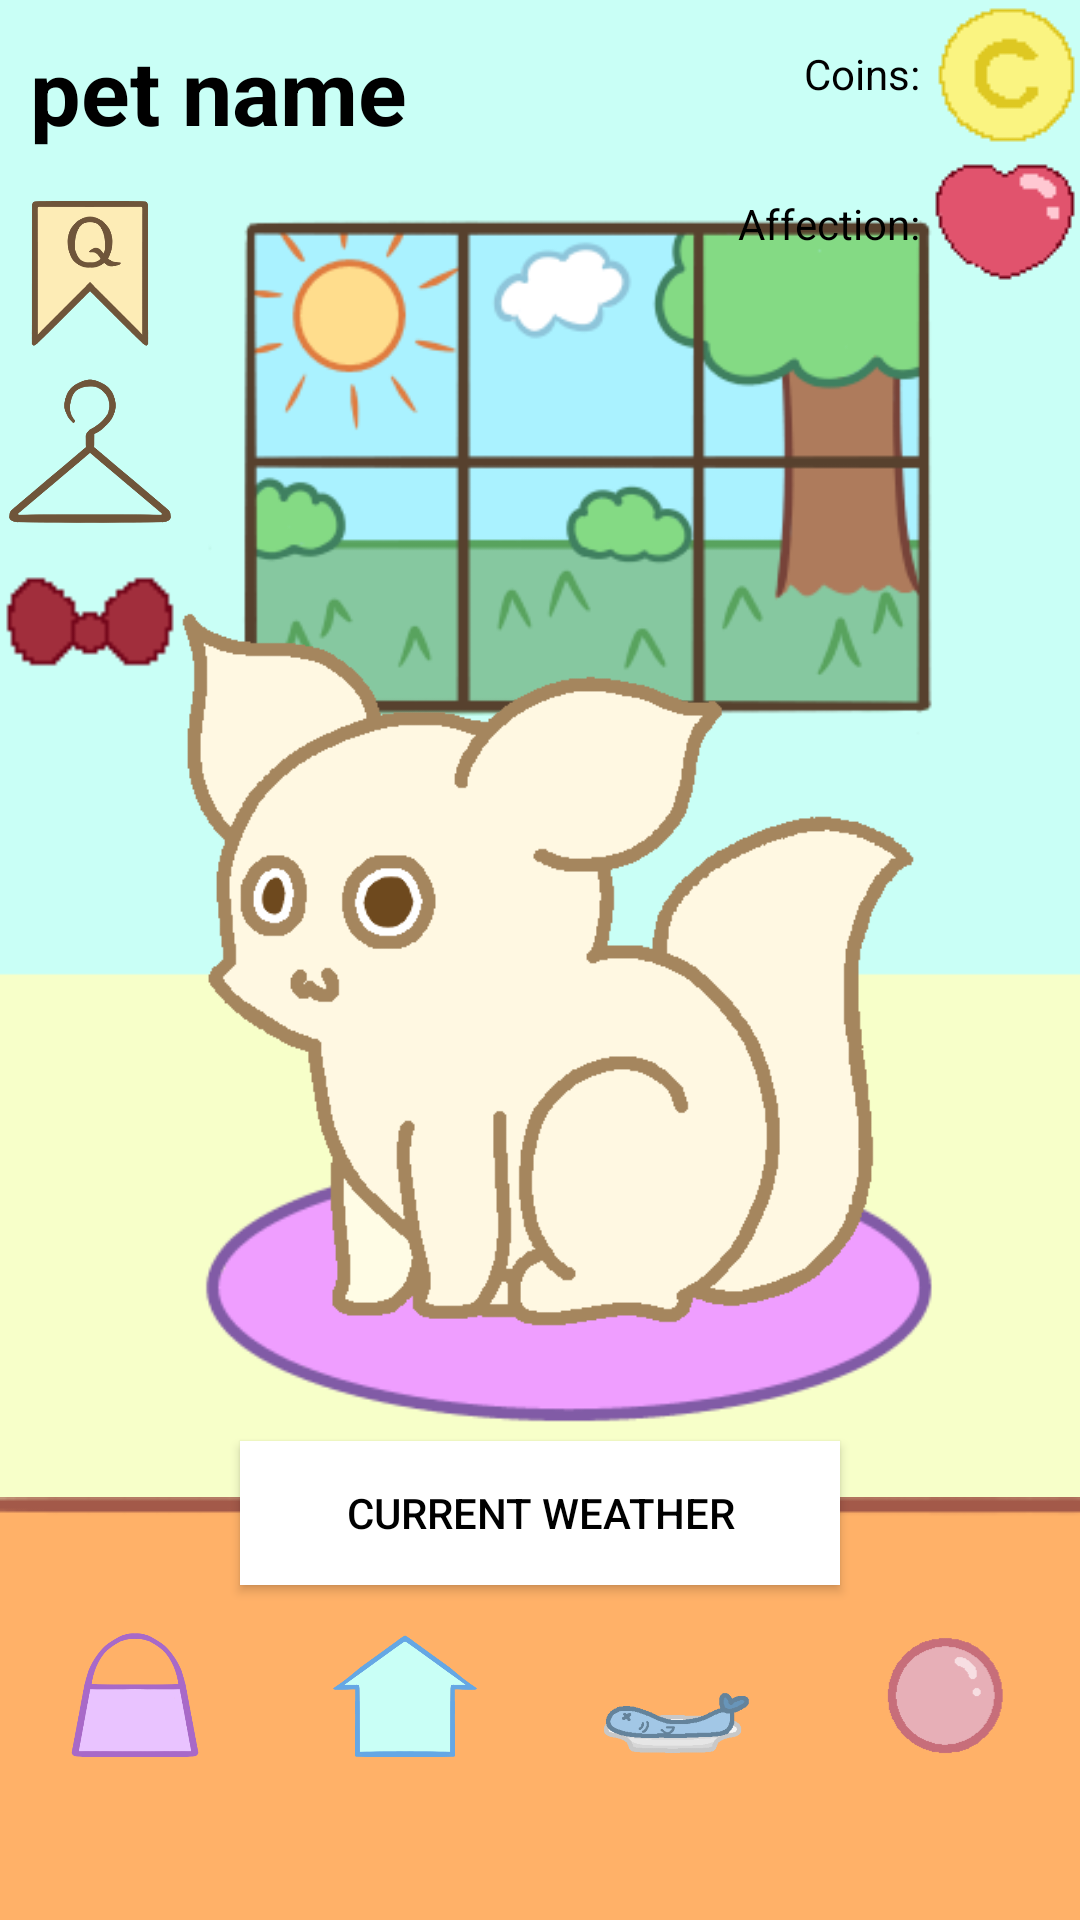

Point at icon controls on the screen. Image size 1080x1920, points as point (x, y).
bowtie: point (90, 621)
custom: point (90, 451)
heart: point (1005, 222)
quest: point (90, 273)
